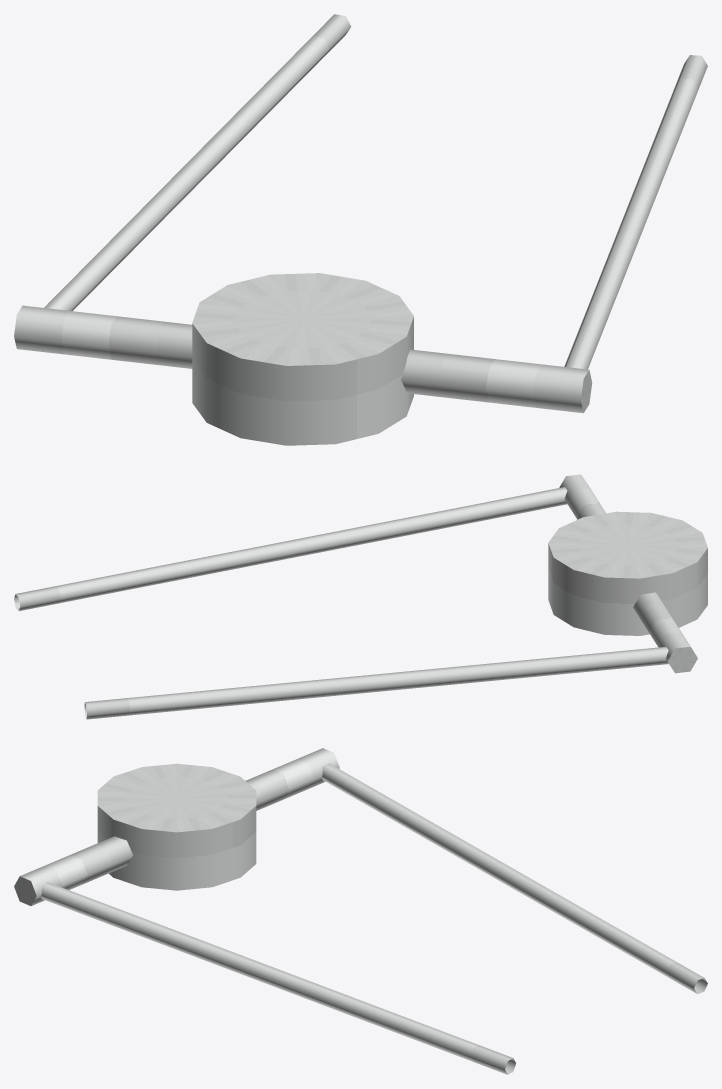
Rendered from nycsignalarm_diagonal4_c0_thin.obj.
3 views of the same model, one above another, from view 1: azimuth 30°, elevation 25°; view 2: azimuth 150°, elevation 25°; view 3: azimuth 270°, elevation 25° (orthographic). The views are drawn at different scales.
Visible parts, largest first — view 1: nycsignalarm_diagonal4_c0_thin; view 2: nycsignalarm_diagonal4_c0_thin; view 3: nycsignalarm_diagonal4_c0_thin.
Part boxes in pixels (bbox=[...]): nycsignalarm_diagonal4_c0_thin: bbox=[14, 14, 707, 445]; nycsignalarm_diagonal4_c0_thin: bbox=[14, 474, 707, 719]; nycsignalarm_diagonal4_c0_thin: bbox=[14, 748, 707, 1074].
Size of the model in its own units: 2.43 by 0.225 by 2.43.
